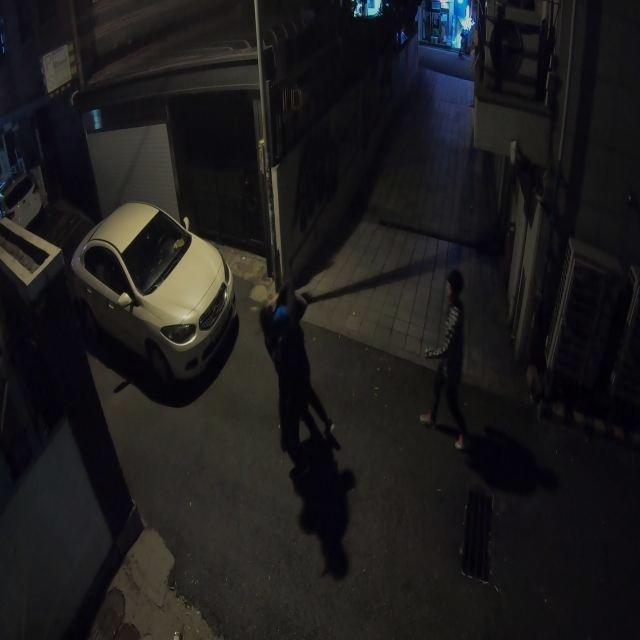fight: (248, 280, 336, 451)
non-fight: (417, 269, 471, 451)
